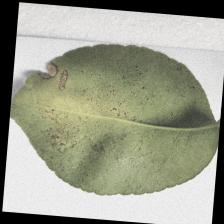canker: (45, 118, 140, 172)
